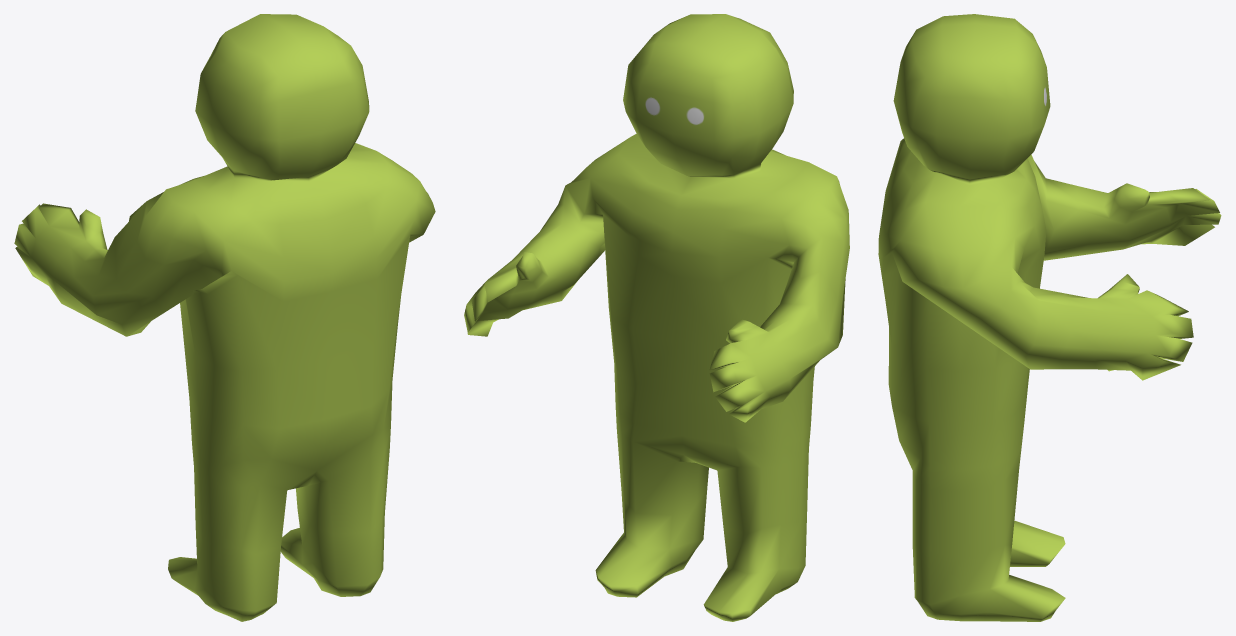
The model's file is Genepool_Enemy_Gunner.fbx.
The picture shows the model from 3 angles, left to right: view 1: azimuth 30°, elevation 25°; view 2: azimuth 150°, elevation 25°; view 3: azimuth 270°, elevation 25°; orthographic projection.
Visible parts, largest first — view 1: polySurface19; view 2: polySurface19; view 3: polySurface19.
Part boxes in pixels (box(x1,y1,x2,y2)): polySurface19: box(14, 14, 435, 621); polySurface19: box(464, 14, 849, 621); polySurface19: box(878, 14, 1221, 621).
Bounding box in the file's own units: 22.65 × 39.51 × 21.74.
